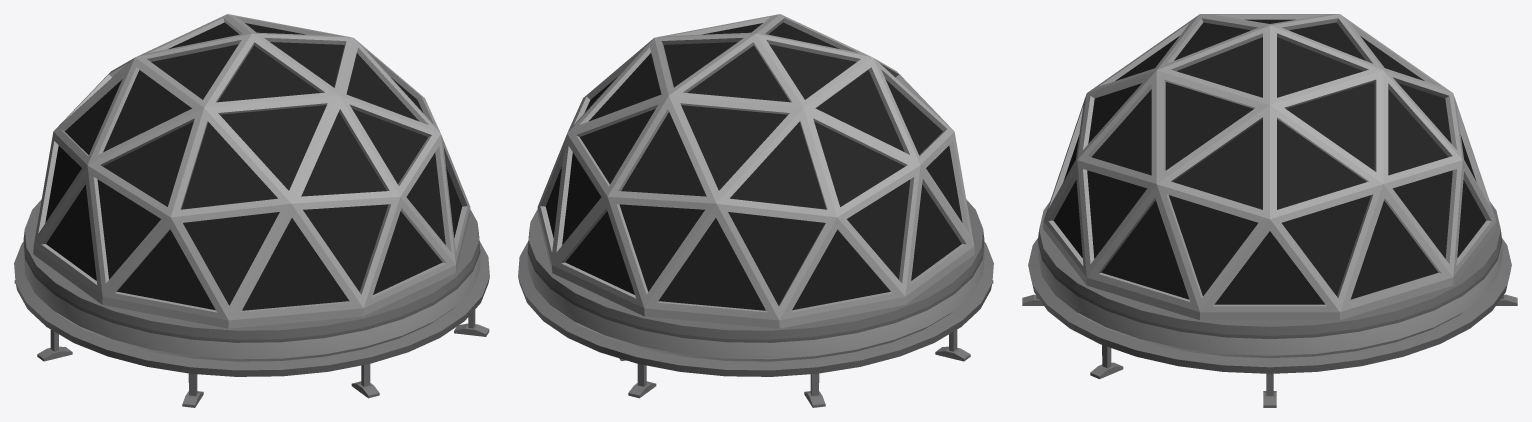
The model's file is geodesic-dome.glb.
3 views of the same model, side by side, from view 1: azimuth 30°, elevation 25°; view 2: azimuth 150°, elevation 25°; view 3: azimuth 270°, elevation 25° (orthographic).
Parts seen in each view (by area): view 1: GeodesicDome; view 2: GeodesicDome; view 3: GeodesicDome.
Part boxes in pixels (x1,y1,x2,y2): GeodesicDome: (14, 14, 489, 407); GeodesicDome: (518, 14, 993, 407); GeodesicDome: (1022, 14, 1517, 407).
Bounding box in the file's own units: 8.53 × 5.28 × 8.53.
Materials: 1 (1 with a texture image).
